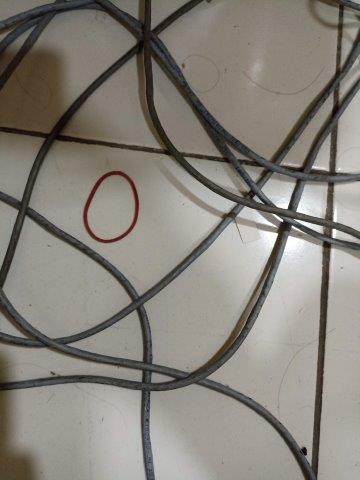karet: (82, 170, 141, 244)
